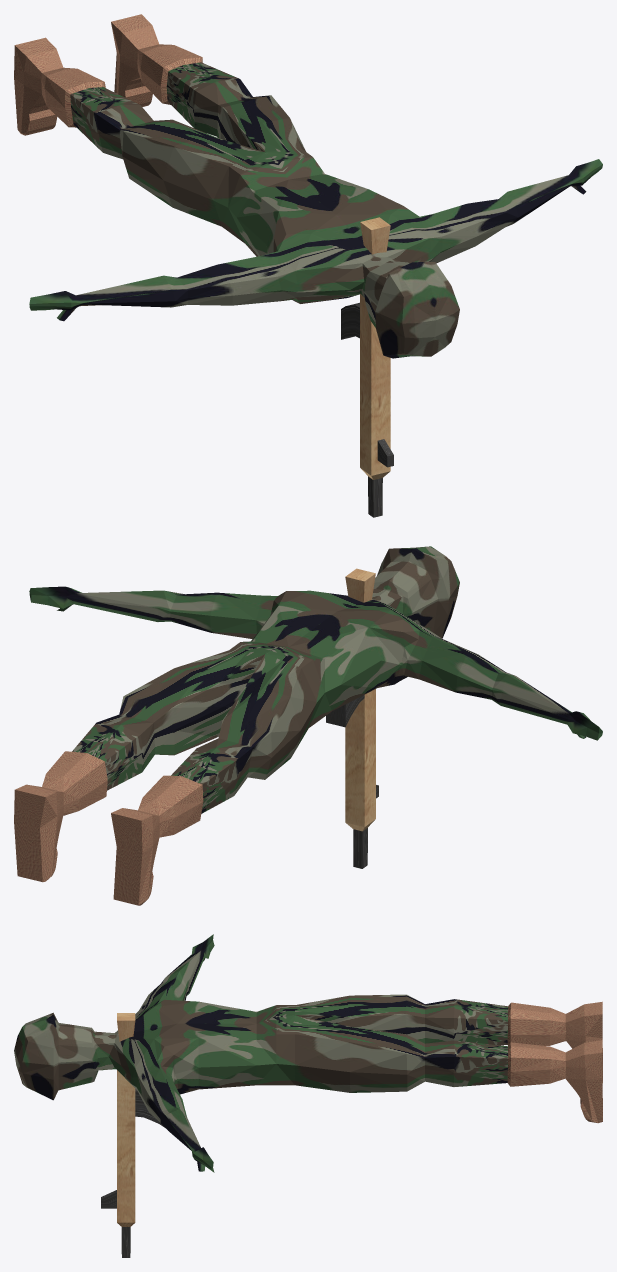
The model's file is infantery.obj.
3 renders of one model, top to bottom at view 1: azimuth 30°, elevation 25°; view 2: azimuth 150°, elevation 25°; view 3: azimuth 270°, elevation 25°, orthographic. The views are drawn at different scales.
Parts seen in each view (by area): view 1: soldier, gun; view 2: soldier, gun; view 3: soldier, gun.
Part boxes in pixels (x1,y1,x2,y2): soldier: [14, 14, 602, 358]; gun: [341, 217, 393, 517]; soldier: [14, 546, 602, 905]; gun: [326, 568, 378, 868]; soldier: [14, 934, 602, 1172]; gun: [101, 1013, 164, 1257].
Size of the model in its own units: 1.54 by 0.7462 by 1.66.
